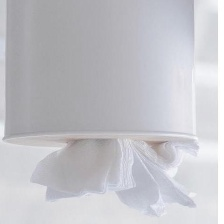plastic_box: (0, 0, 203, 156)
tissue: (24, 130, 204, 221)
